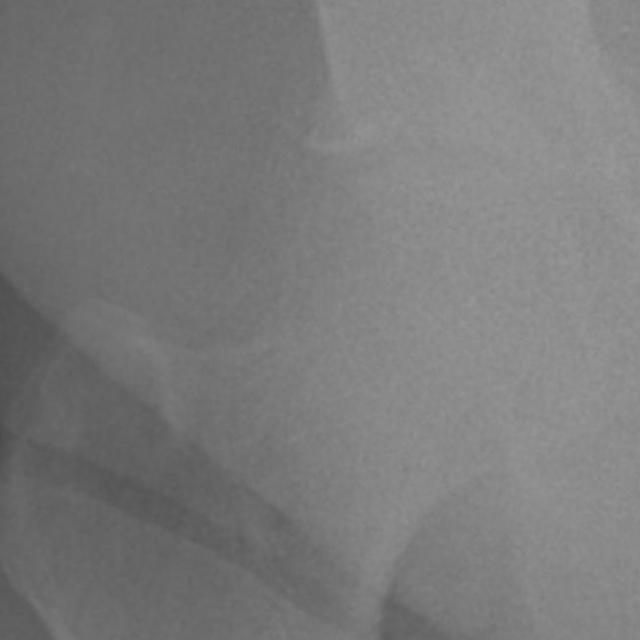Fitted_femural_head: (362, 151, 432, 362)
